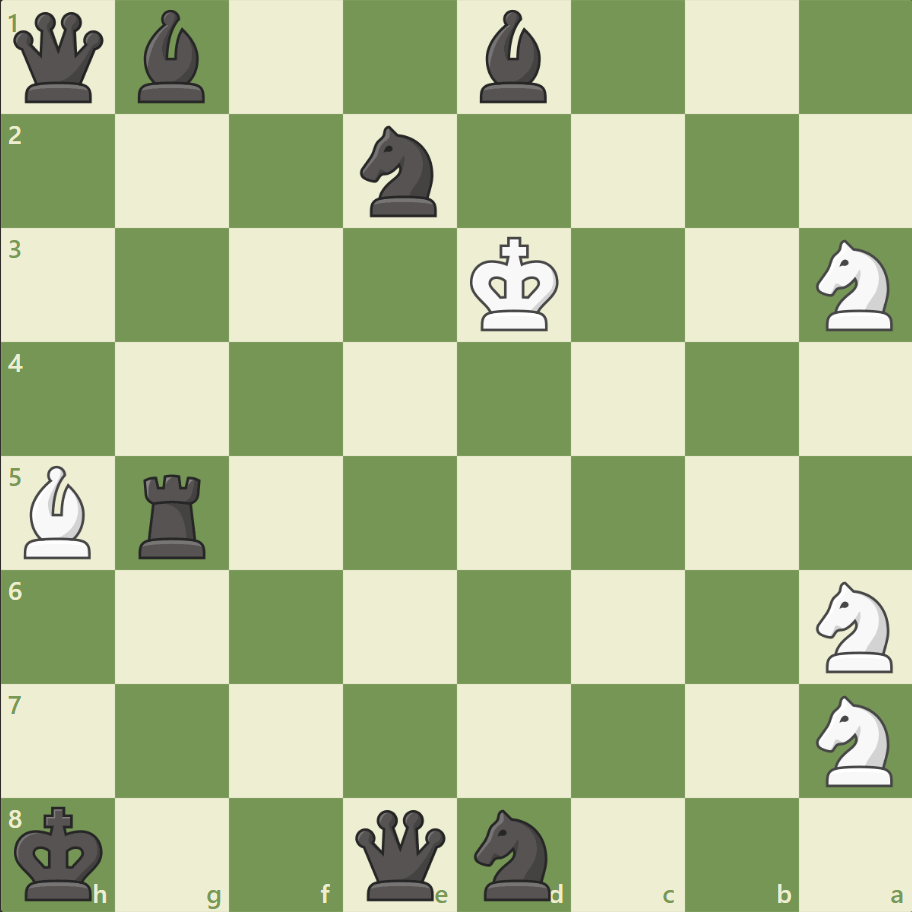B: (17, 460, 101, 563)
K: (465, 231, 565, 339)
N: (806, 688, 903, 791), (806, 234, 903, 337), (806, 575, 903, 677)
b: (471, 6, 555, 109), (131, 6, 215, 109)
k: (11, 798, 111, 906)
n: (351, 121, 449, 223), (465, 802, 562, 904)
q: (351, 804, 450, 903), (10, 9, 109, 108)
r: (133, 466, 215, 563)
